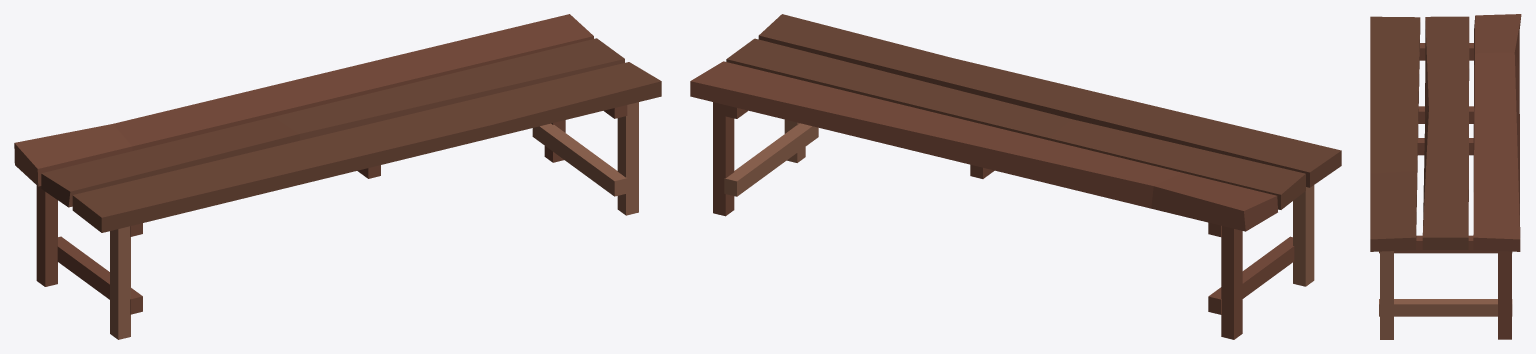
File: Bench 3.glb
3 renders of one model, left to right at view 1: azimuth 30°, elevation 25°; view 2: azimuth 150°, elevation 25°; view 3: azimuth 270°, elevation 25°, orthographic. The views are drawn at different scales.
Visible parts, largest first — view 1: Bench 3; view 2: Bench 3; view 3: Bench 3.
Part boxes in pixels (box(x1,y1,x2,y2)): Bench 3: box(14, 14, 661, 339); Bench 3: box(690, 14, 1341, 339); Bench 3: box(1370, 14, 1521, 339).
Size of what is drawn, in the model's own units: 2.26 by 0.5299 by 0.6474.
1 material, 1 textured.
